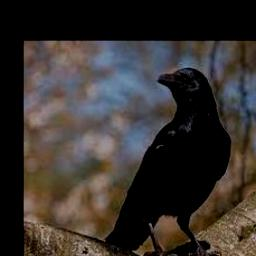Crow: (105, 68, 231, 256)
